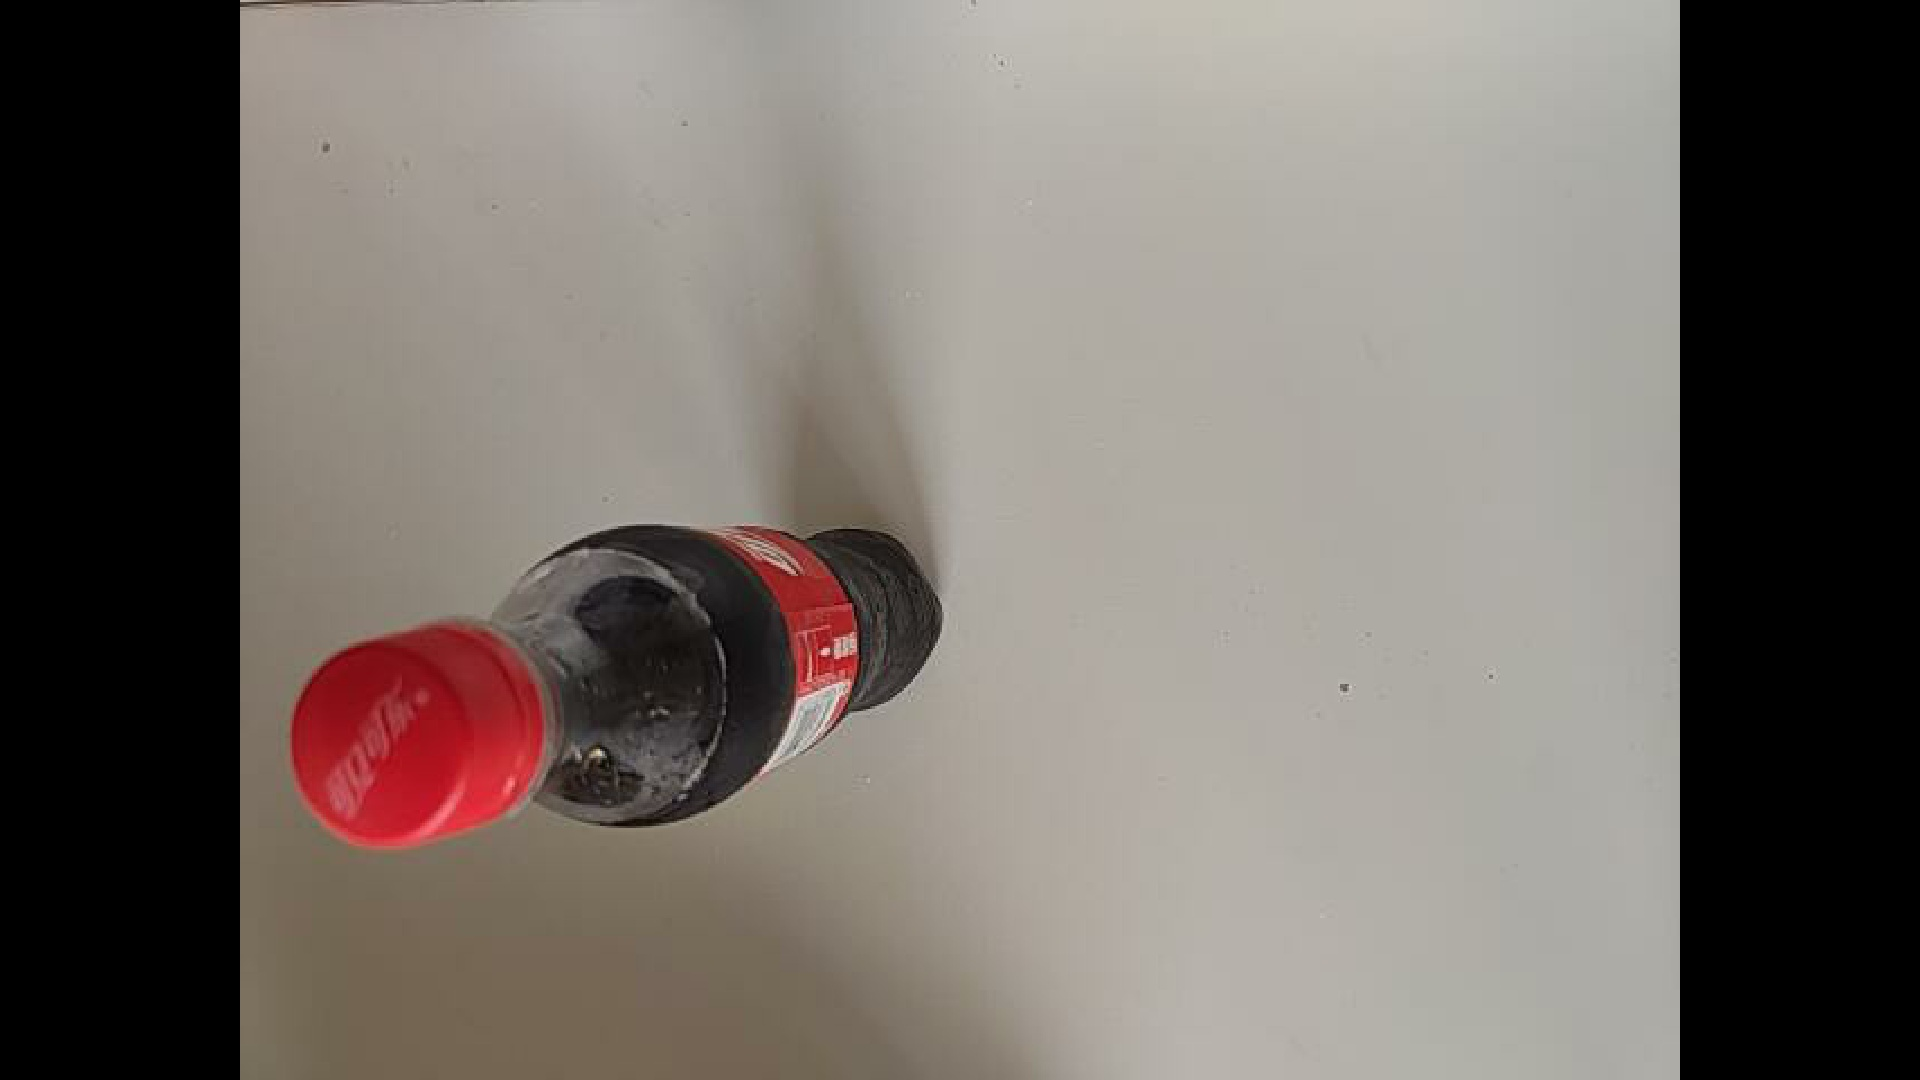cola: (287, 522, 944, 851)
